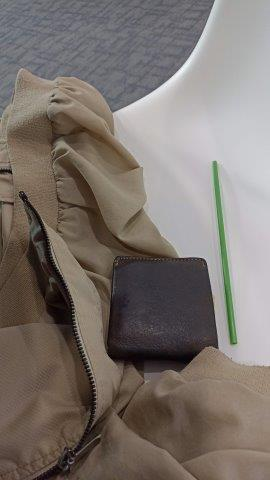sedotan: (212, 161, 237, 344)
